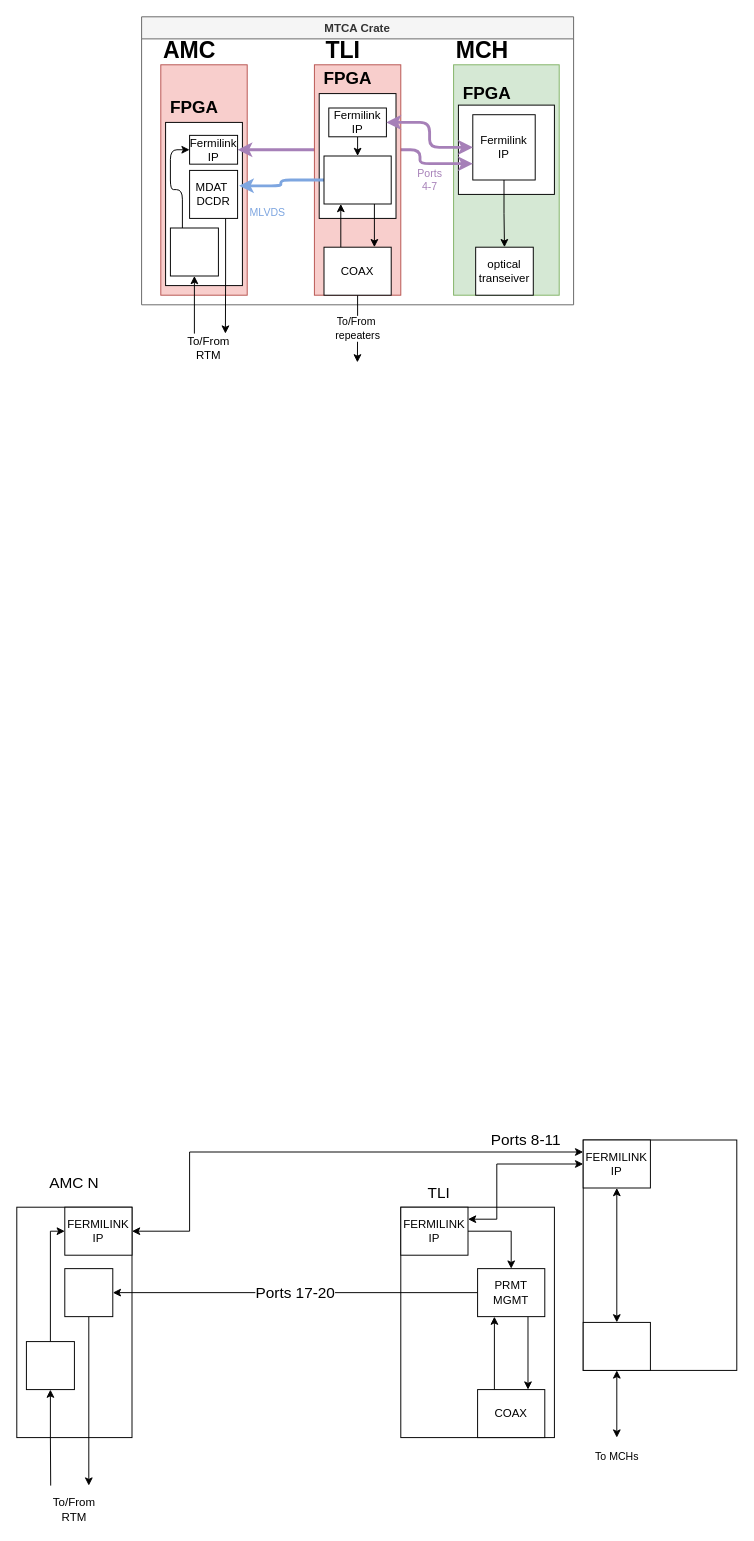
Some shapes in this 754 by 1541 pixel diagram are drawn without their labels. Here are the shapes that lost their labels. From the top down, the centre of each, then its label:
the point at 357,179: MDAT MGMT
the point at 193,251: MDAT ENCD
the point at 88,1292: PRMT SEQ
the point at 49,1365: ABORT LOGIC
the point at 616,1345: Fiber IO
